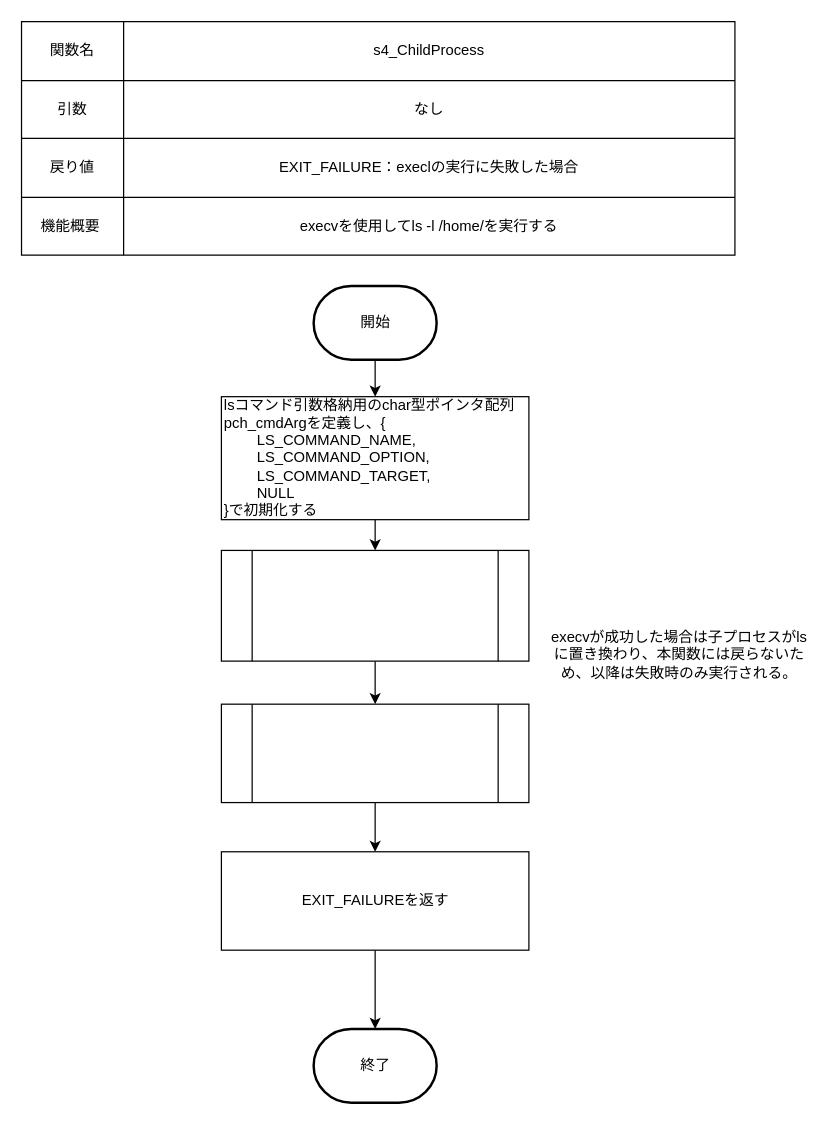
This 830x1125 diagram has some shape labels left out. Each missing label, with the centre of its shape:
LS_COMMAND_PATH、 pch_cmdArg を引数に指定して execvライブラリー関数を呼び出す: [374,605]
perror(" execv "): [374,753]
